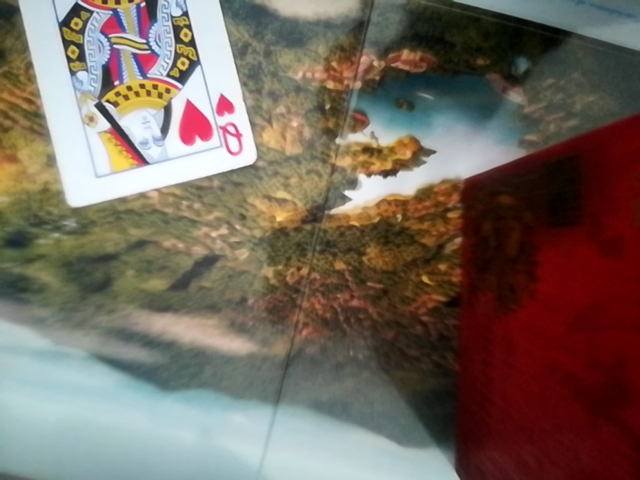hx q: (4, 0, 259, 217)
